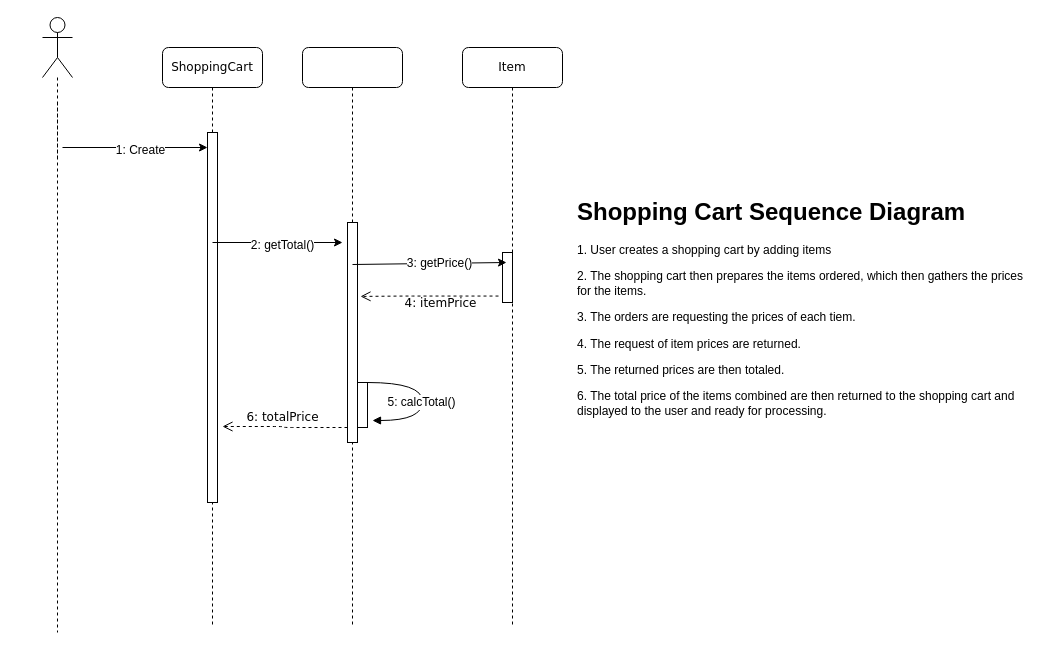
Some shapes in this 1060 by 651 pixel diagram are drawn without their labels. The box of each missing label's shape, as (x1, y1, x2, y2) in pixels:
Order: (302, 46, 402, 628)
User/Customer: (42, 16, 72, 78)
